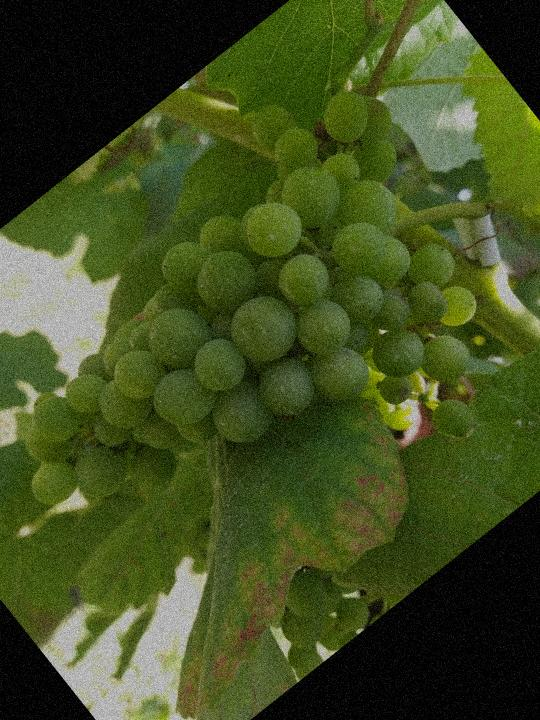grape: (0, 41, 540, 674)
